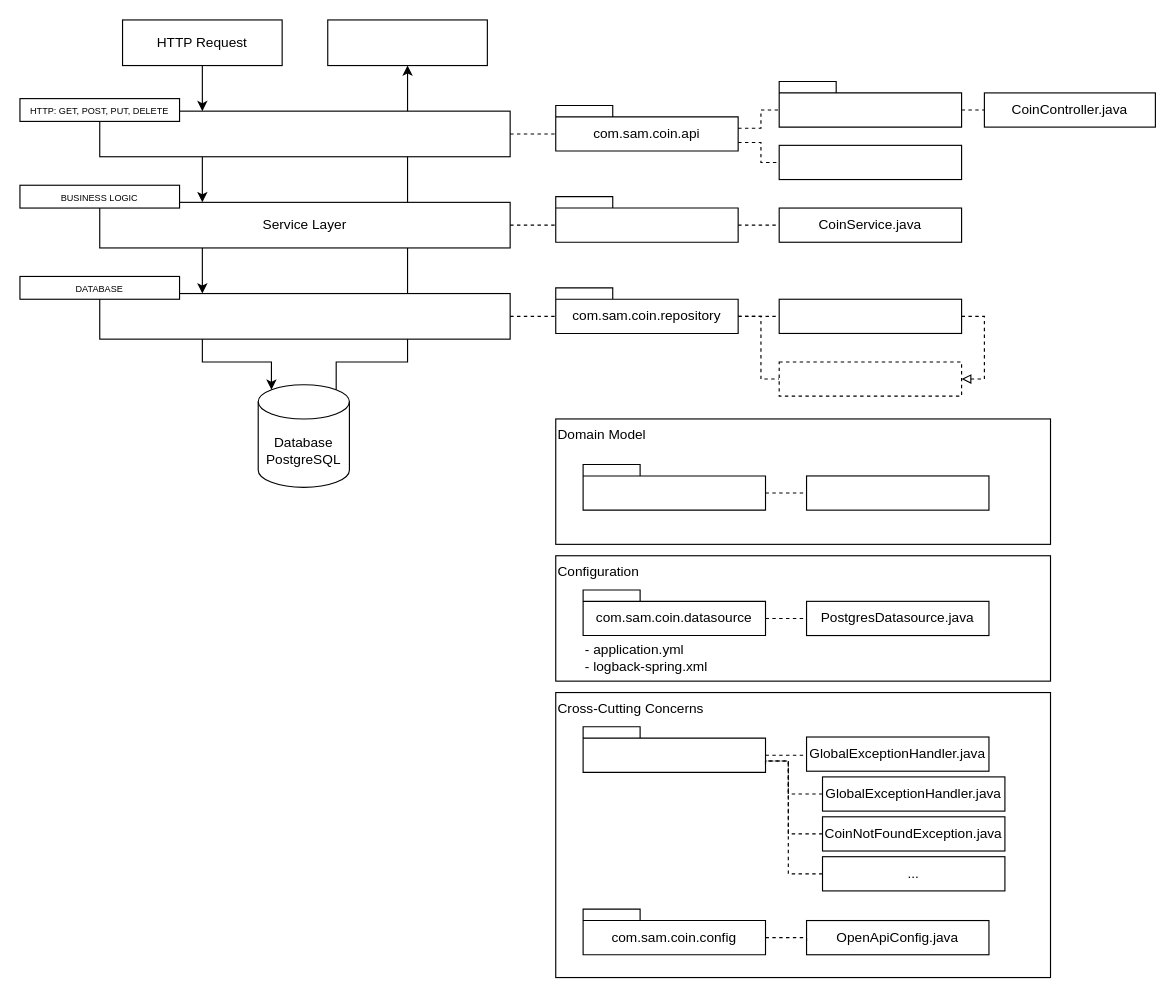
Image size: 1175x1007. Some labels were removed from this diagram. Each missing label, with the centre of its shape:
"API / Controller Layer" belongs at point (304, 133).
"Coin.java" belongs at point (897, 492).
"CoinRepository.java interface" belongs at point (870, 378).
"com.sam.coin.api.controller" belongs at point (870, 103).
"com.sam.coin.domain.model" belongs at point (674, 486).
"com.sam.coin.exception" belongs at point (674, 749).
"com.sam.coin.service" belongs at point (646, 219).
"Data Access Layer" belongs at point (304, 315).
"HTTP Response" belongs at point (407, 42).
"JdbcCoinRepository.java" belongs at point (870, 315).
"SamApiResponse.java" belongs at point (870, 162).
